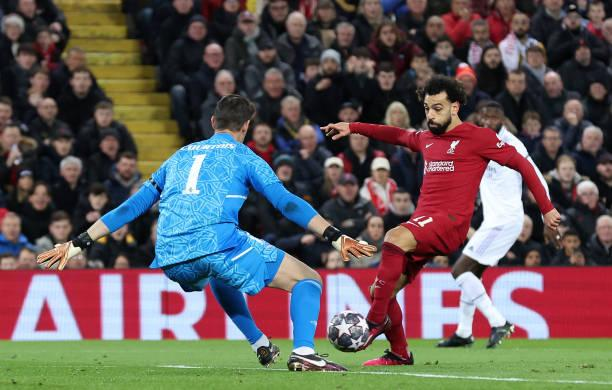Goalkeeper: (37, 97, 374, 372)
Player: (325, 76, 567, 369), (437, 93, 555, 350)
ball: (328, 311, 368, 352)
